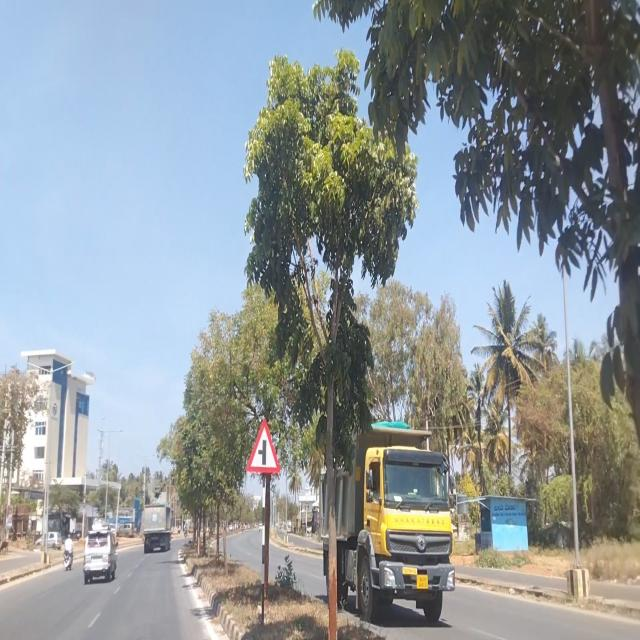bien_cam: (248, 418, 280, 472)
